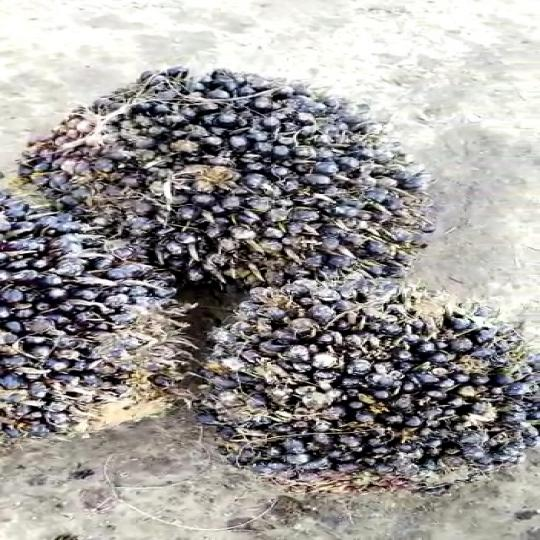mentah: (19, 55, 516, 286), (205, 276, 529, 492), (0, 180, 172, 464)
